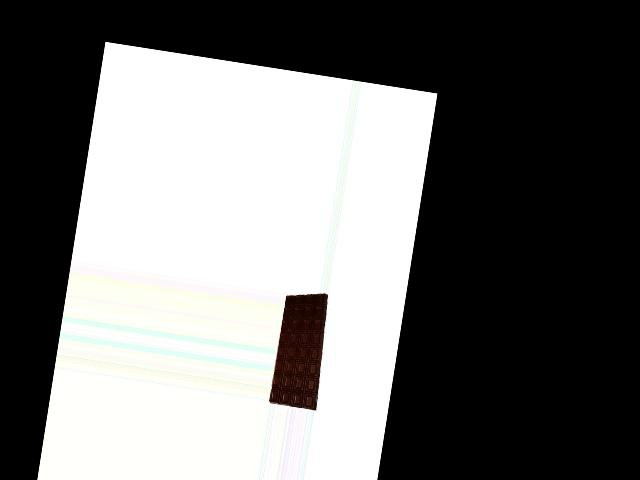chocolate: (268, 286, 332, 411)
